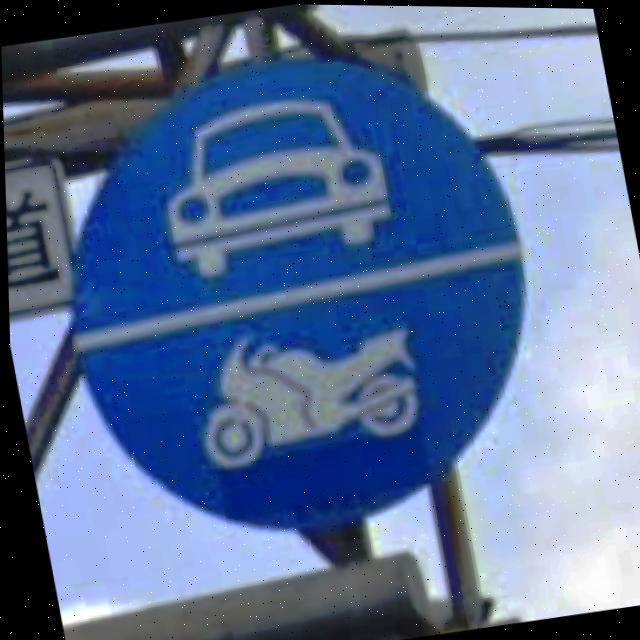carmotorcycle: (71, 62, 524, 533)
